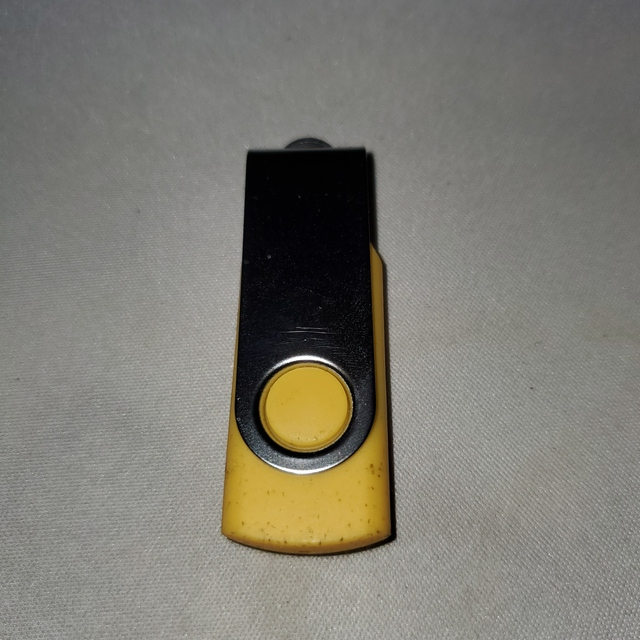usb_drive: (214, 128, 400, 572)
